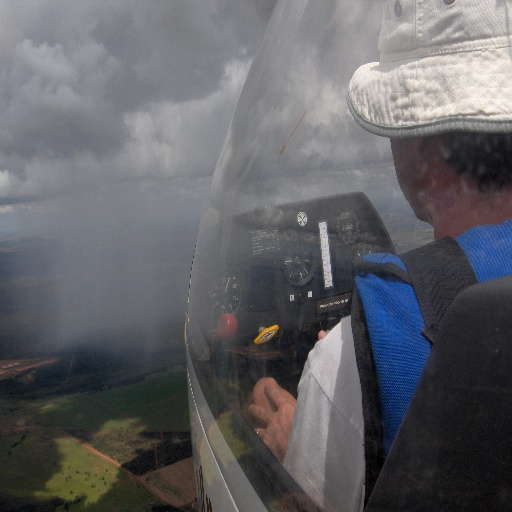hand: (246, 381, 294, 465), (318, 328, 327, 340)
